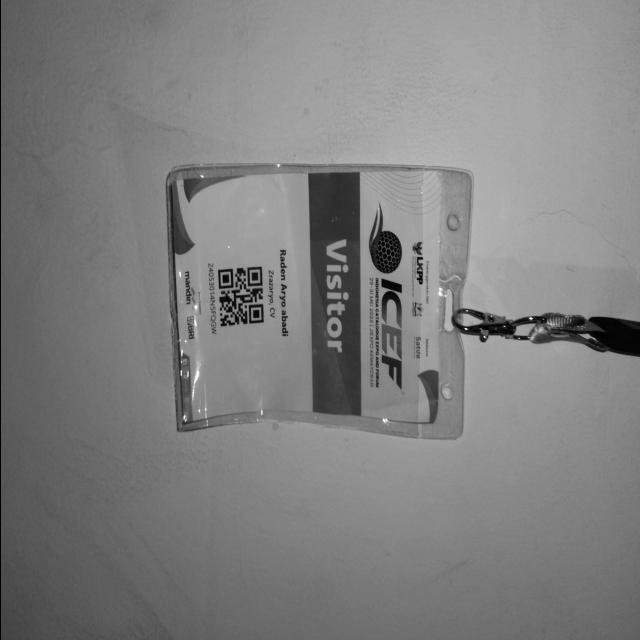ID_card: (166, 162, 472, 439)
